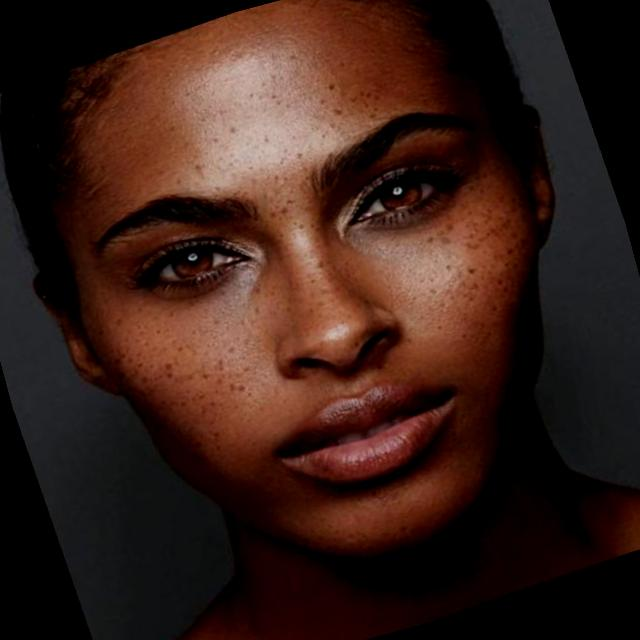freckle: (161, 25, 394, 190), (97, 266, 290, 444), (380, 185, 570, 361), (236, 152, 356, 306)
